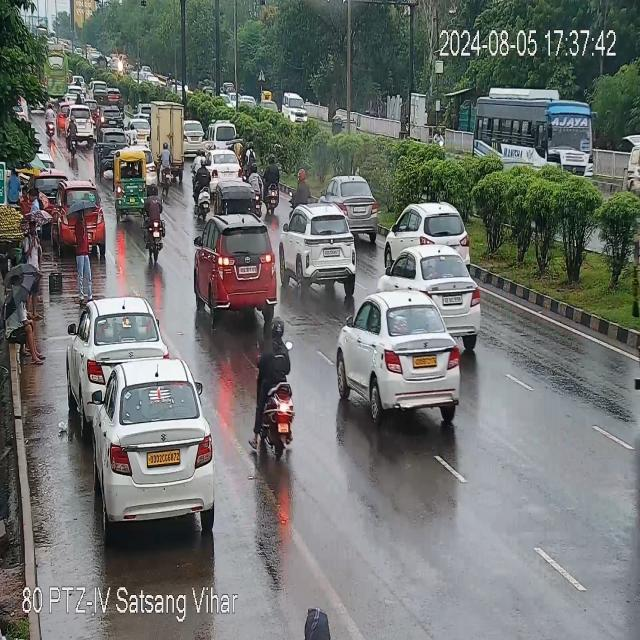2-wheelers: (257, 314, 299, 465), (139, 189, 169, 258), (261, 163, 287, 215), (291, 168, 314, 208), (159, 146, 176, 191), (42, 100, 58, 140), (66, 118, 80, 156)
auto: (112, 150, 152, 215), (208, 178, 262, 213)
bus: (476, 89, 590, 183)
car: (82, 360, 215, 527), (338, 291, 465, 422), (376, 245, 486, 346), (191, 221, 279, 324), (73, 298, 163, 392), (282, 215, 361, 291), (382, 204, 473, 258), (326, 177, 380, 235), (60, 188, 106, 251), (282, 205, 360, 242), (96, 131, 142, 176), (64, 108, 98, 146), (281, 89, 311, 131), (195, 149, 243, 175), (183, 121, 208, 155), (209, 124, 241, 148)
pedestrian: (7, 299, 46, 360), (290, 607, 338, 640)
truck: (135, 100, 188, 176)
